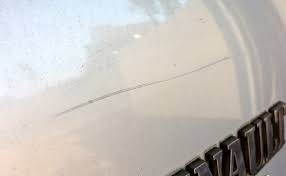scratch: (46, 105, 242, 123)
